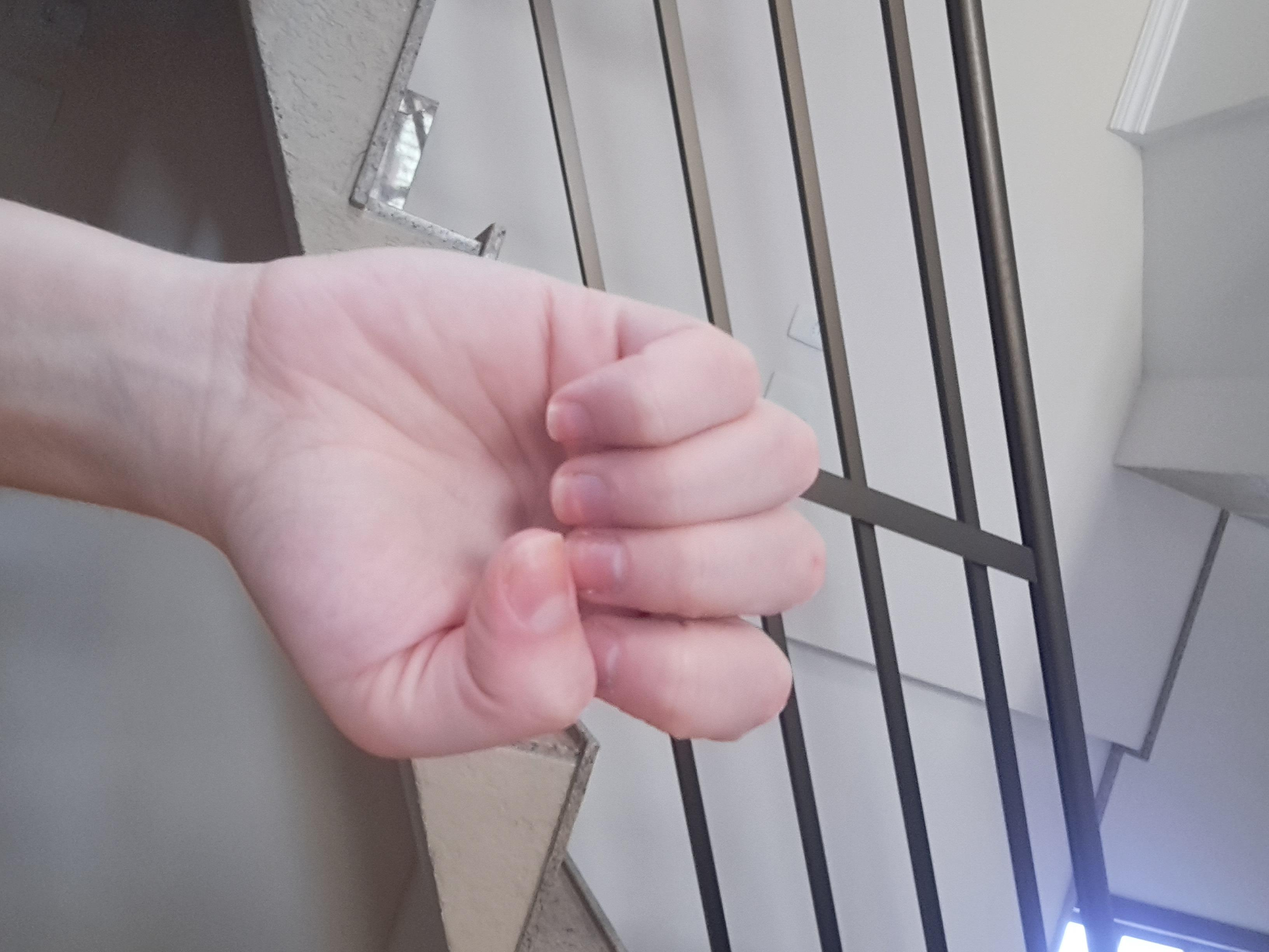E: (306, 321, 1078, 820)
